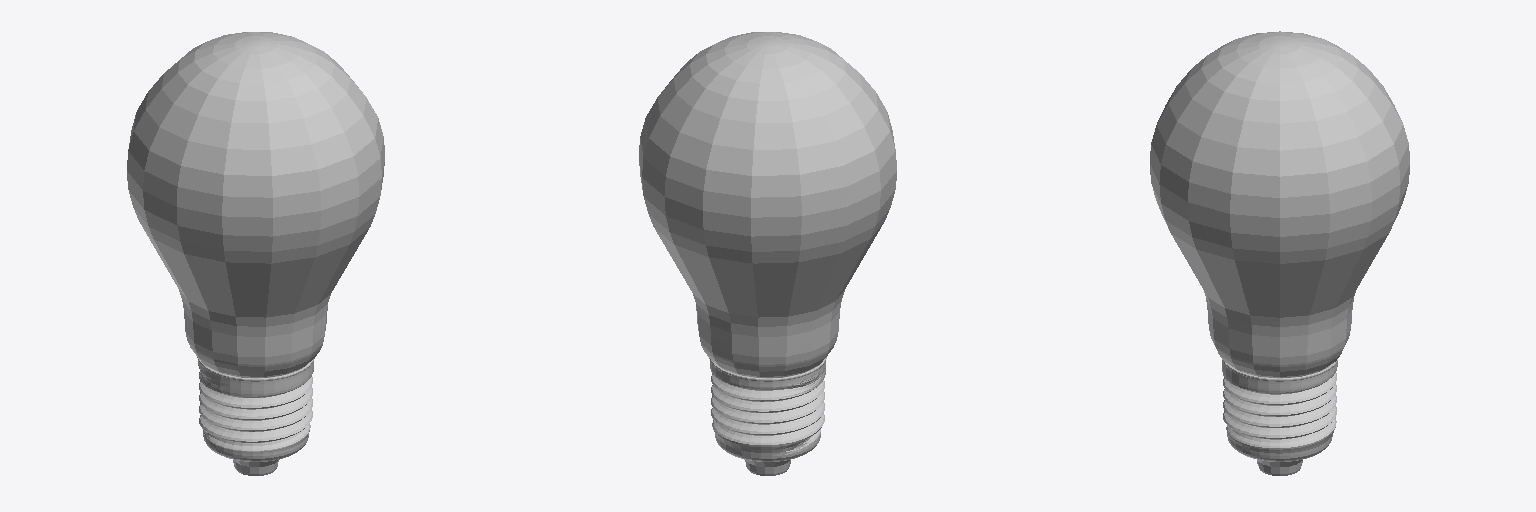
The model's file is bulb.obj.
3 renders of one model, left to right at view 1: azimuth 30°, elevation 25°; view 2: azimuth 150°, elevation 25°; view 3: azimuth 270°, elevation 25°, orthographic.
Parts seen in each view (by area): view 1: Ampoule_Bulbe, Ampoule_Culot, Ampoule_Plot; view 2: Ampoule_Bulbe, Ampoule_Culot, Ampoule_Plot; view 3: Ampoule_Bulbe, Ampoule_Culot, Ampoule_Plot.
Boxes of the visible parts, x1=… form: Ampoule_Bulbe: x1=127, y1=32, x2=384, y2=377; Ampoule_Culot: x1=197, y1=357, x2=314, y2=461; Ampoule_Plot: x1=233, y1=460, x2=278, y2=475; Ampoule_Bulbe: x1=639, y1=32, x2=896, y2=377; Ampoule_Culot: x1=709, y1=357, x2=826, y2=461; Ampoule_Plot: x1=745, y1=460, x2=790, y2=475; Ampoule_Bulbe: x1=1150, y1=31, x2=1409, y2=377; Ampoule_Culot: x1=1222, y1=359, x2=1337, y2=461; Ampoule_Plot: x1=1257, y1=460, x2=1302, y2=475.
Bounding box in the file's own units: 5.01 × 9.02 × 5.01.